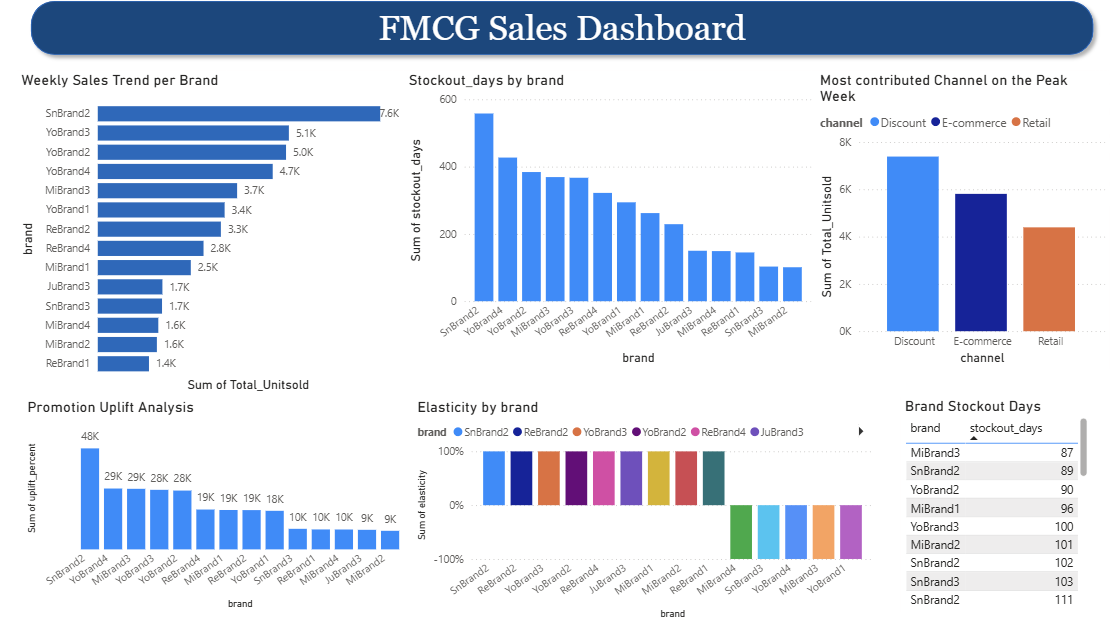

What the dashboard file says about the page in this screenshot:
{"tool":"powerbi","page":{"name":"FINAL","canvas":[1280,720],"ordinal":0},"visuals":[{"type":"shape","box":[28.8,0,1232.3,79.6],"z":0},{"type":"clusteredBarChart","title":"Weekly Sales Trend per Brand","fields":{"Category":["1b Rank Weekly Sales per brand.brand"],"Y":["Sum(1b Rank Weekly Sales per brand.Total_Unitsold)"]},"box":[22,89.2,441.9,371.9],"z":1000},{"type":"clusteredColumnChart","title":"Promotion Uplift Analysis","fields":{"Category":["2 Promotion Uplift Analisis.brand"],"Y":["Sum(2 Promotion Uplift Analisis.uplift_percent)"]},"box":[28.8,462.4,446,247],"z":2000},{"type":"columnChart","title":"Most contributed Channel on the Peak Week","fields":{"Category":["1c Most contributed Channel in peak week.channel"],"Y":["Sum(1c Most contributed Channel in peak week.Total_Unitsold)"],"Series":["1c Most contributed Channel in peak week.channel"]},"box":[934.5,89.2,336.2,341.7],"z":3000},{"type":"lineClusteredColumnComboChart","title":"Stockout_days by brand","fields":{"Category":["4b Stockout per brand and channel.brand"],"Y":["Sum(4b Stockout per brand and channel.stockout_days)"]},"box":[463.8,89.2,470.7,341.7],"z":4000},{"type":"hundredPercentStackedColumnChart","title":"Elasticity by brand","fields":{"Category":["3 Price Elasticity Check.brand"],"Y":["Sum(3 Price Elasticity Check.elasticity)"],"Series":["3 Price Elasticity Check.brand"]},"box":[474.8,462.4,531,258],"z":5000},{"type":"tableEx","title":"Brand Stockout Days","fields":{"Values":["9a Assess the impact of delivery lead times on stockouts.brand","9a Assess the impact of delivery lead times on stockouts.stockout_days"]},"box":[1031.4,461.4,218.6,245.7],"z":6000}]}

Visuals, with their boxes in screenshot pixels (x1, y1, x2, y2), scaled from the page's 1280x720 canvas onto the 1117x621 screenshot:
shape: locate(25, 0, 1101, 69)
"Weekly Sales Trend per Brand" clusteredBarChart: locate(19, 77, 405, 398)
"Promotion Uplift Analysis" clusteredColumnChart: locate(25, 399, 414, 612)
"Most contributed Channel on the Peak Week" columnChart: locate(815, 77, 1109, 372)
"Stockout_days by brand" lineClusteredColumnComboChart: locate(405, 77, 815, 372)
"Elasticity by brand" hundredPercentStackedColumnChart: locate(414, 399, 878, 620)
"Brand Stockout Days" tableEx: locate(900, 398, 1091, 610)
